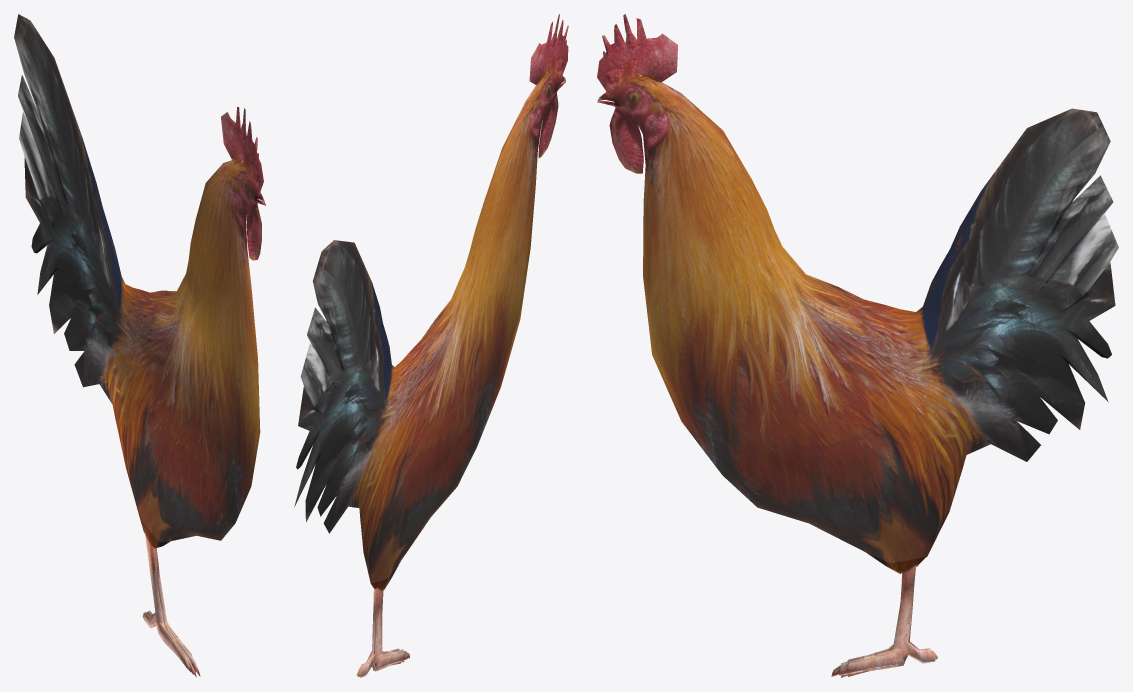
The model's file is pollos.obj.
3 views of the same model, side by side, from view 1: azimuth 30°, elevation 25°; view 2: azimuth 150°, elevation 25°; view 3: azimuth 270°, elevation 25° (orthographic). The views are drawn at different scales.
Parts seen in each view (by area): view 1: Gallo; view 2: Gallo; view 3: Gallo.
Boxes of the visible parts, bbox=[...] form: Gallo: bbox=[14, 14, 265, 677]; Gallo: bbox=[294, 14, 568, 677]; Gallo: bbox=[597, 14, 1118, 677].
Bounding box in the file's own units: 0.6298 × 6.11 × 4.55.
Materials: 1 (1 with a texture image).
